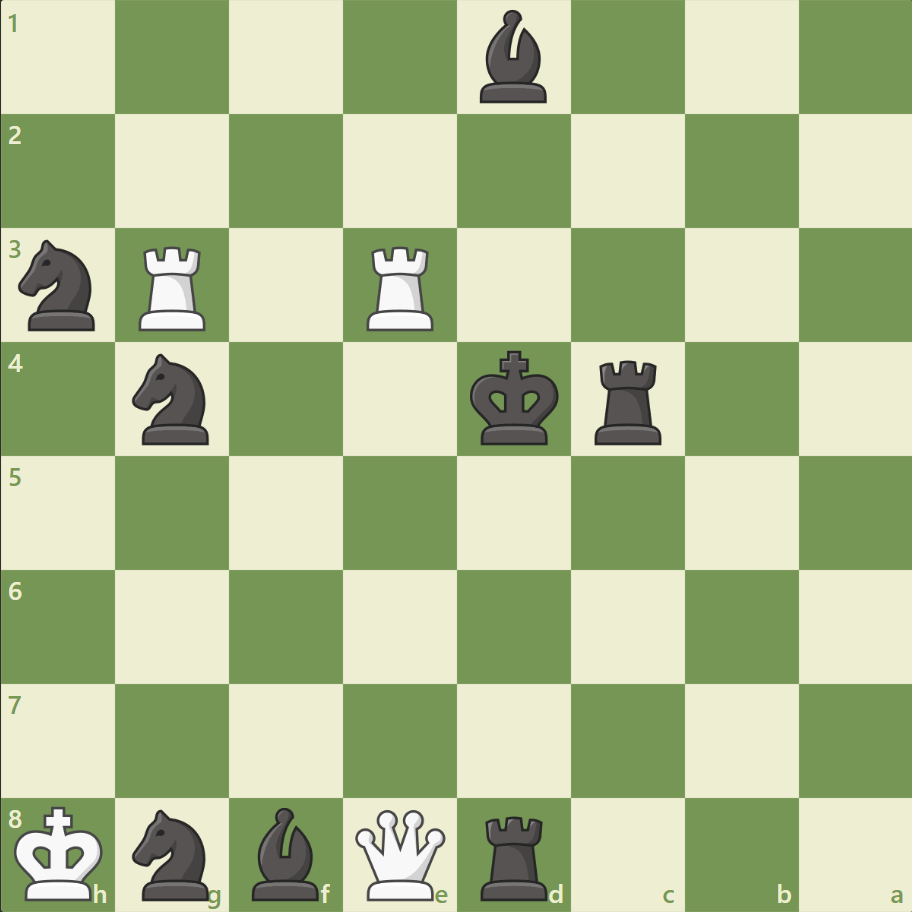K: (11, 798, 111, 906)
Q: (351, 804, 450, 903)
R: (360, 239, 442, 336), (133, 239, 215, 336)
b: (244, 801, 328, 904), (471, 6, 555, 109)
k: (465, 344, 565, 452)
n: (124, 802, 222, 904), (124, 348, 222, 450), (11, 234, 108, 337)
r: (473, 806, 556, 904), (587, 352, 670, 449)
